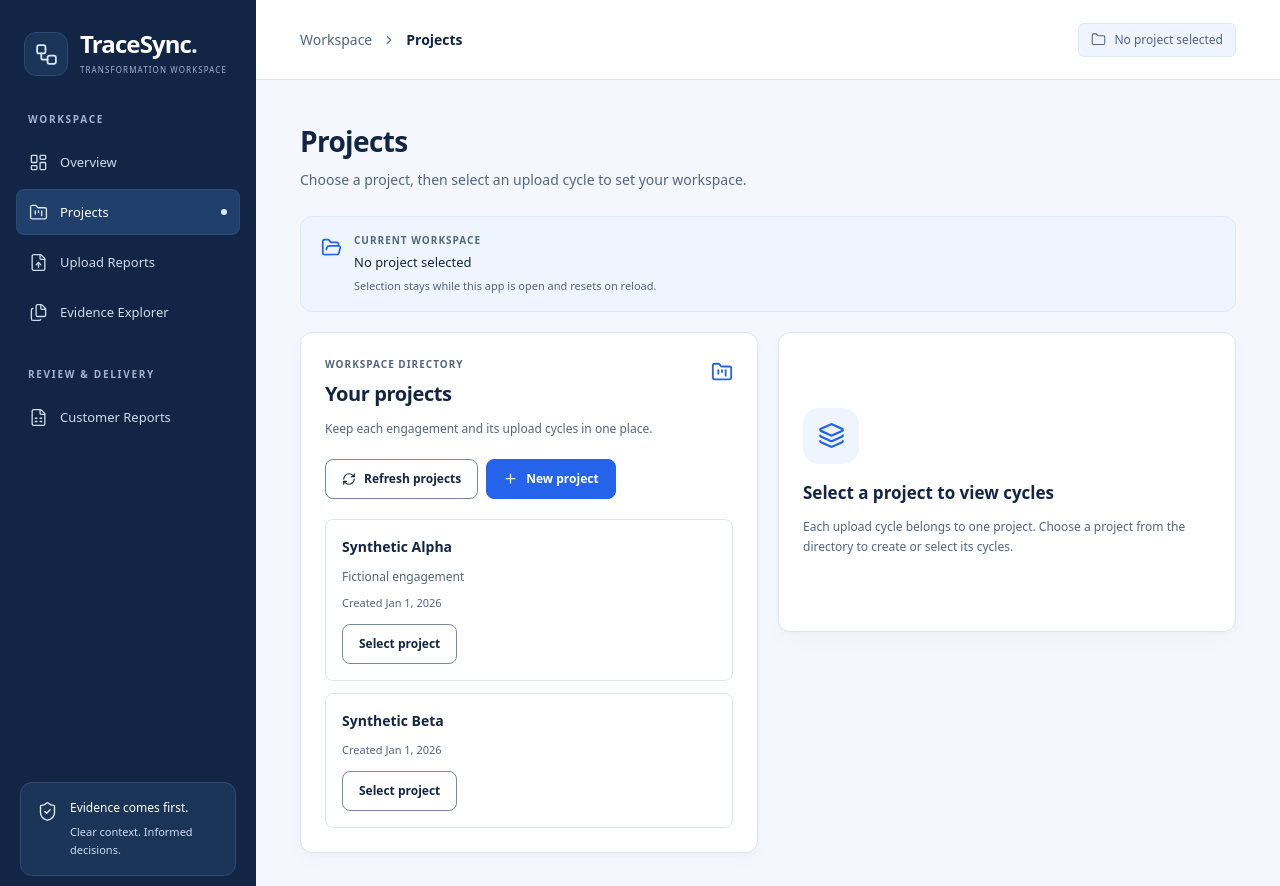
Evidence Explorer › loads only the selected dataset page and preserves duplicate names as distinct rows
Click the button "Select project" below "Synthetic Alpha".
click(400, 644)  # box [342,624,457,664]
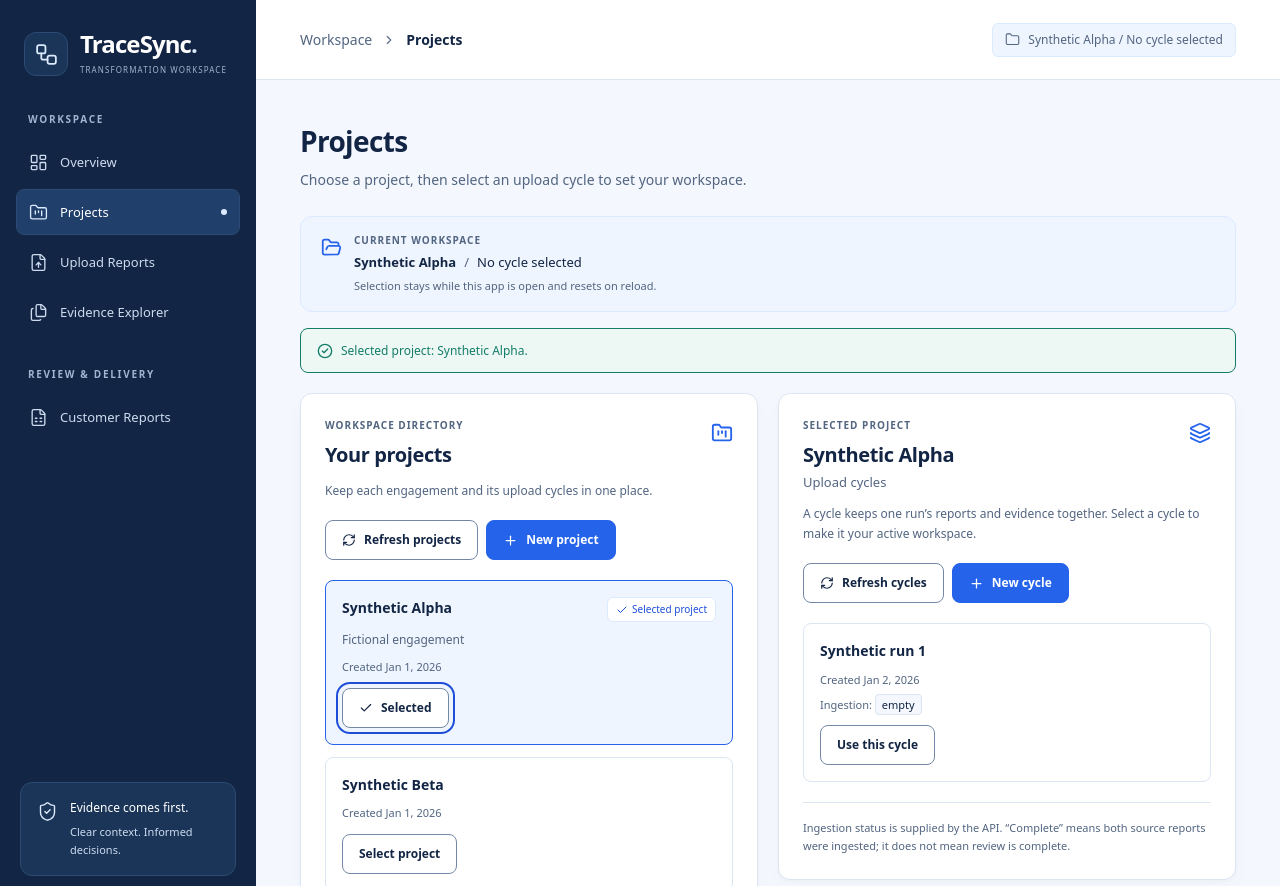
Click the button "Use this cycle".
click(878, 745)  # box [820,725,935,765]
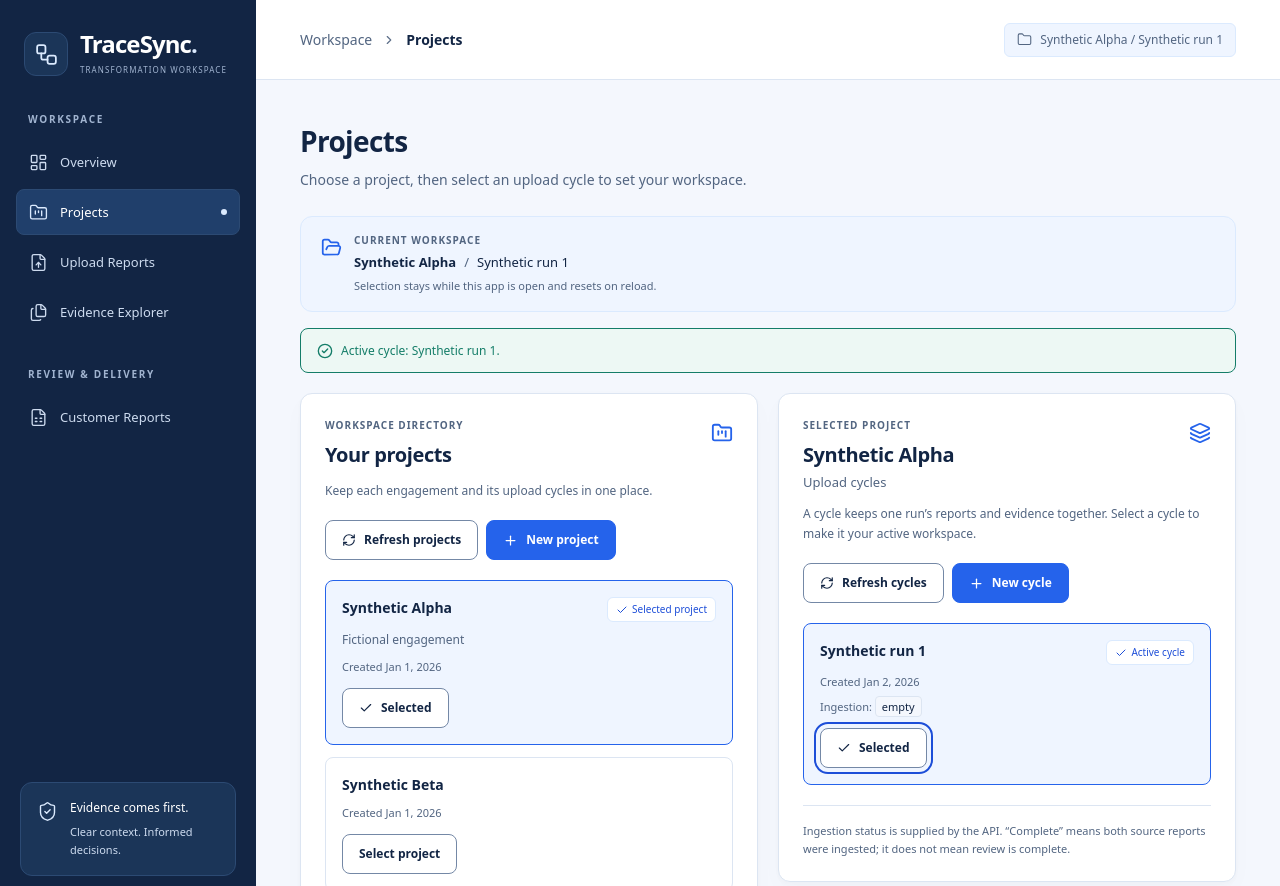
Click the link "Evidence Explorer".
click(99, 312)  # box [29,302,169,322]
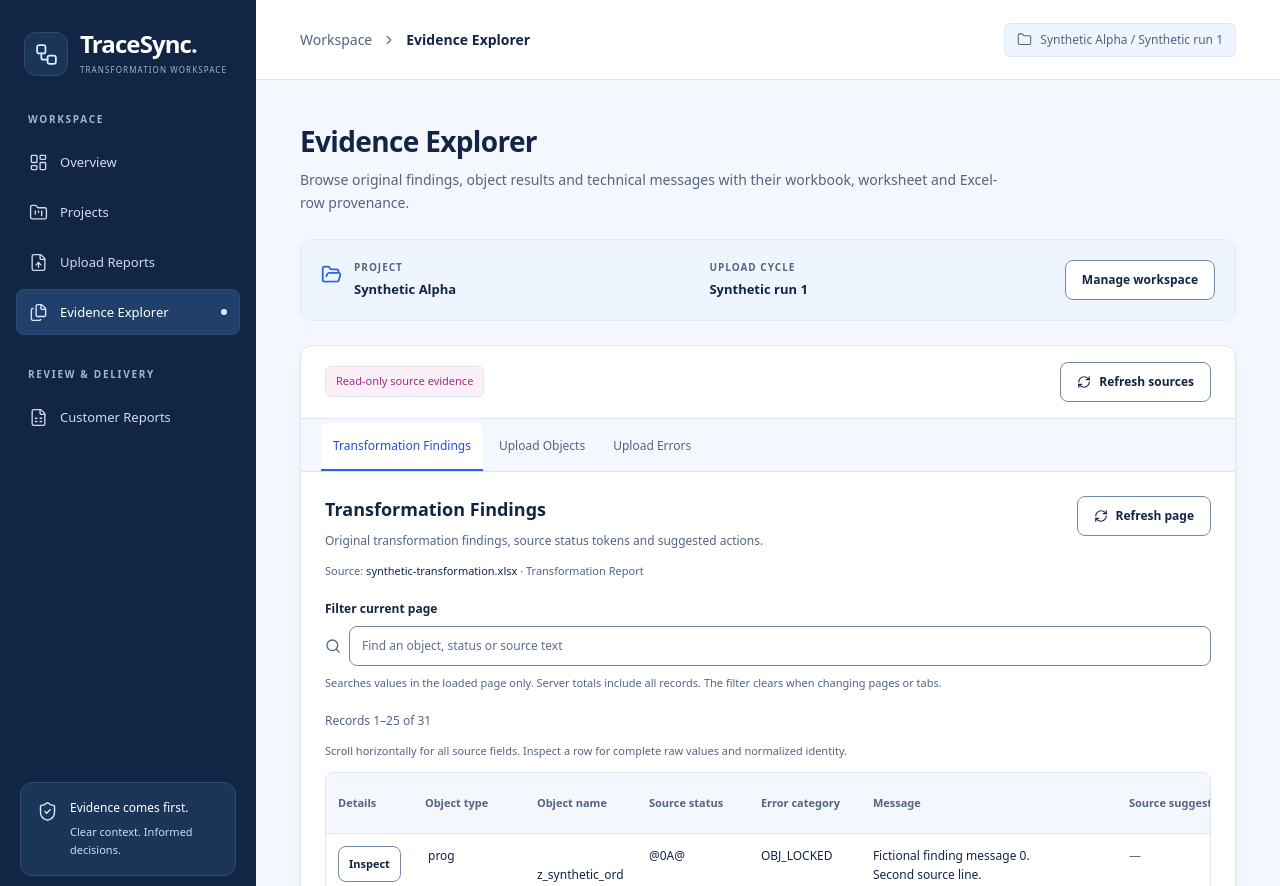
Expected: the text "Records 1–25 of 31" is shown, [325,712,431,729]
Expected: the button named "Inspect Detailed_LOG row 2" is shown, [338,846,401,882]
